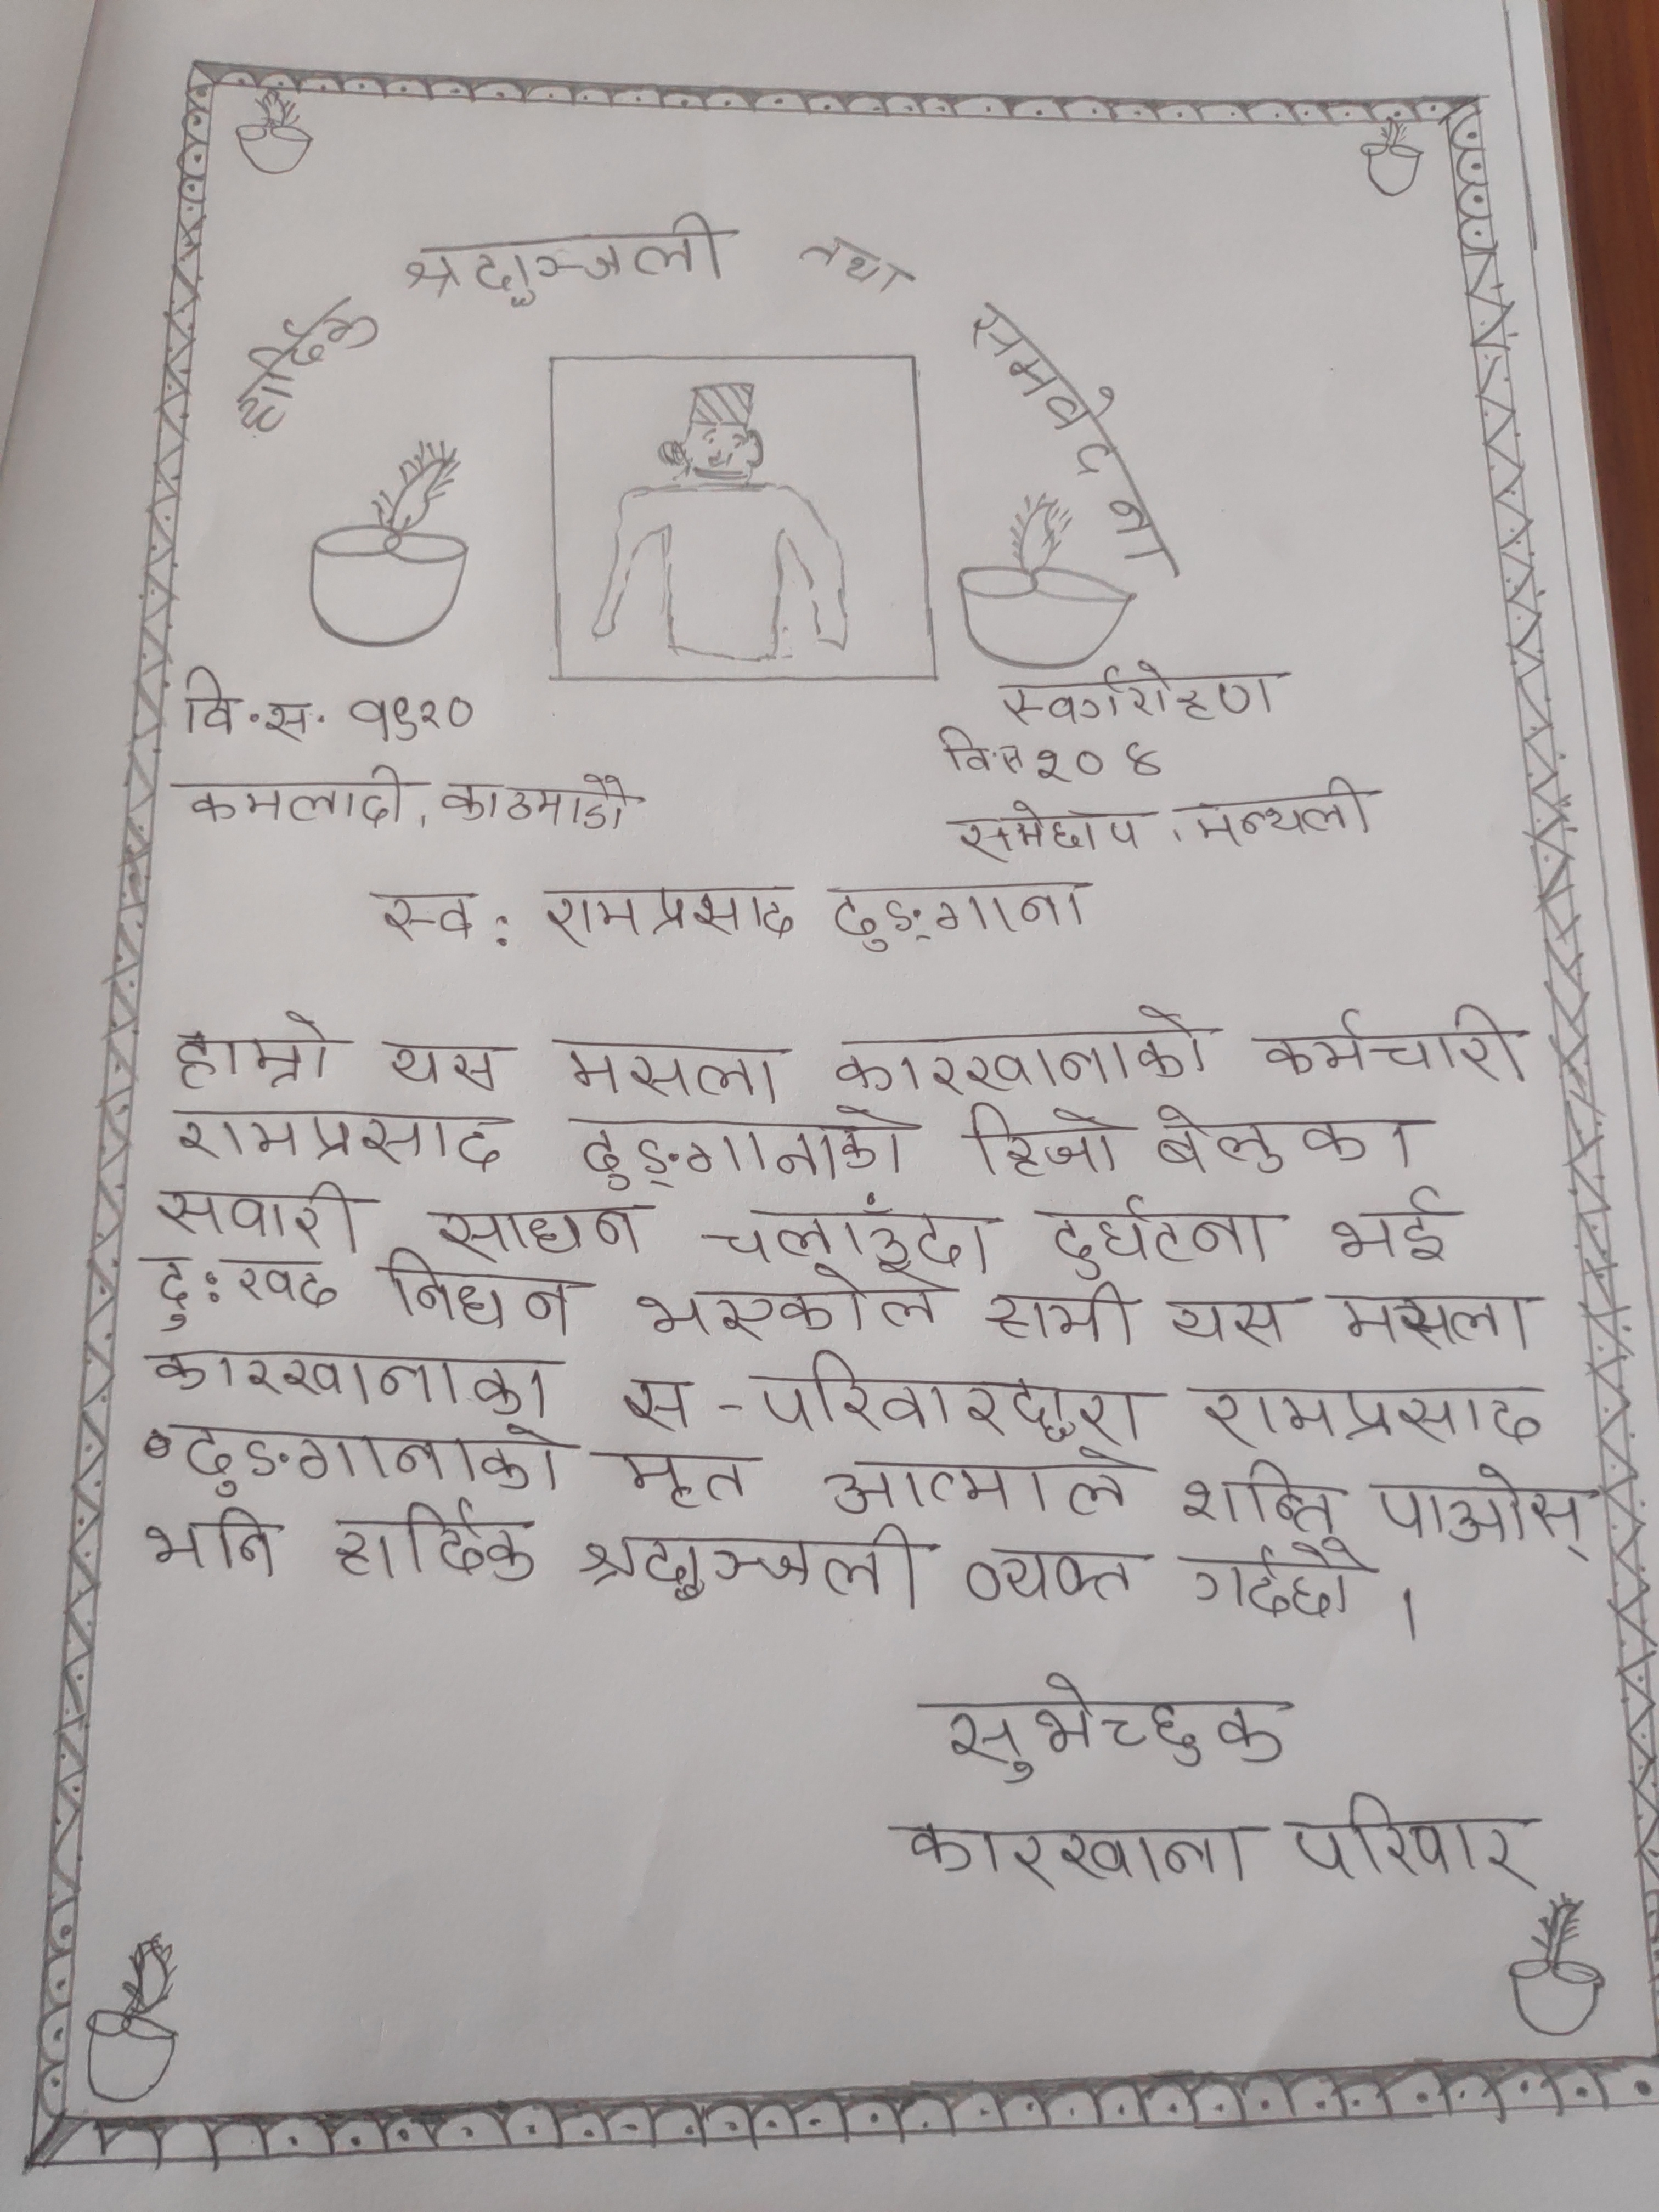text: (931, 1677, 1295, 1787), (756, 1350, 1154, 1449), (397, 207, 751, 310), (830, 1001, 1216, 1094), (559, 1103, 908, 1197), (162, 1416, 561, 1496), (573, 1526, 922, 1613), (141, 1345, 551, 1416), (1183, 1374, 1546, 1449), (1291, 1796, 1551, 1893), (824, 873, 1114, 960), (629, 1264, 950, 1341), (1255, 1001, 1534, 1089), (169, 1101, 507, 1172), (819, 1447, 1143, 1521), (903, 1820, 1246, 1888), (713, 1195, 1002, 1275), (1030, 1190, 1290, 1278), (225, 291, 383, 434), (1368, 1463, 1596, 1561), (1147, 1099, 1424, 1179), (993, 658, 1284, 726), (967, 298, 1114, 428), (545, 883, 805, 956), (329, 1498, 545, 1585), (547, 1028, 786, 1106), (382, 1251, 580, 1345), (178, 759, 413, 833), (132, 1249, 338, 1331), (1072, 428, 1183, 570), (155, 1179, 369, 1252), (1180, 1538, 1366, 1622), (1187, 770, 1382, 848), (960, 1101, 1124, 1183), (174, 1012, 335, 1096), (427, 1198, 647, 1259), (178, 662, 329, 747), (437, 770, 641, 833), (1183, 1456, 1338, 1538), (1337, 1294, 1532, 1355), (955, 799, 1155, 859), (1324, 1181, 1460, 1268), (960, 1540, 1138, 1602), (985, 1278, 1143, 1348), (131, 1508, 282, 1578), (795, 221, 924, 301), (612, 1442, 748, 1508), (380, 1035, 509, 1101), (1157, 1289, 1291, 1348), (1032, 735, 1175, 789), (364, 881, 479, 948), (347, 691, 486, 744), (931, 726, 1030, 782), (617, 1367, 694, 1433)
